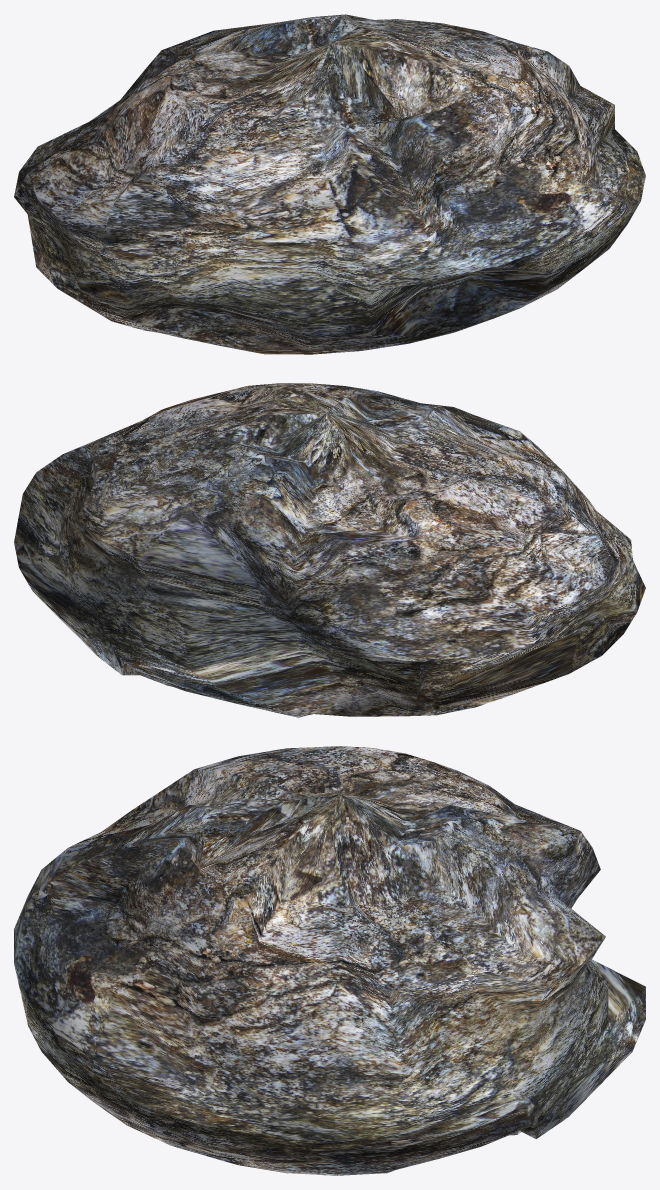
Rendered from Stein_1.fbx.
3 renders of one model, top to bottom at view 1: azimuth 30°, elevation 25°; view 2: azimuth 150°, elevation 25°; view 3: azimuth 270°, elevation 25°, orthographic. The views are drawn at different scales.
Parts seen in each view (by area): view 1: Kugel; view 2: Kugel; view 3: Kugel.
Part boxes in pixels (x1,y1,x2,y2): Kugel: [14, 14, 645, 354]; Kugel: [14, 383, 645, 717]; Kugel: [14, 746, 645, 1175].
Bounding box in the file's own units: 302 × 130 × 247.
Materials: 1 (1 with a texture image).
